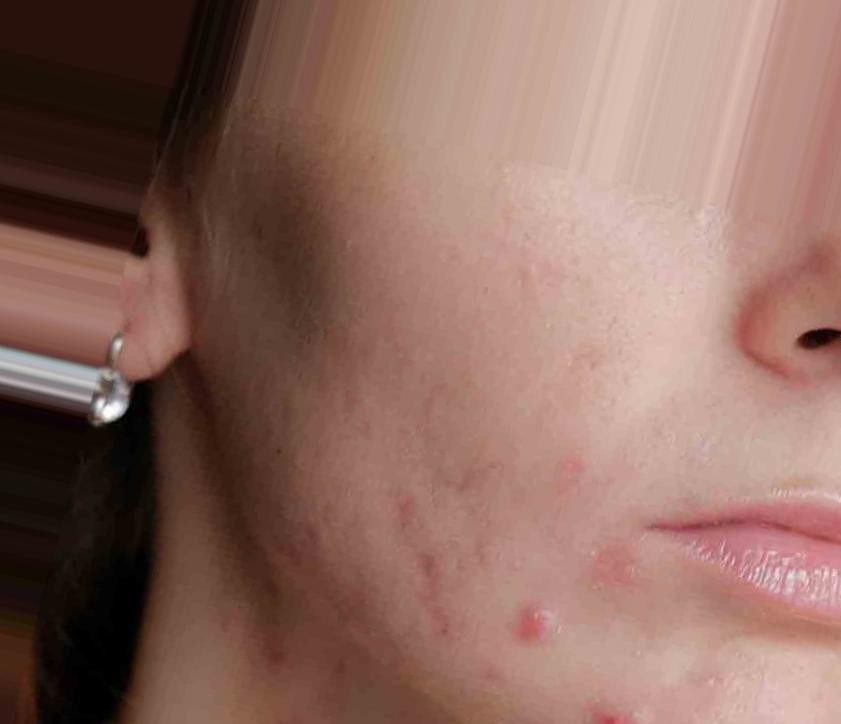Acne: (605, 517, 680, 606), (499, 579, 568, 659), (591, 673, 645, 724)
